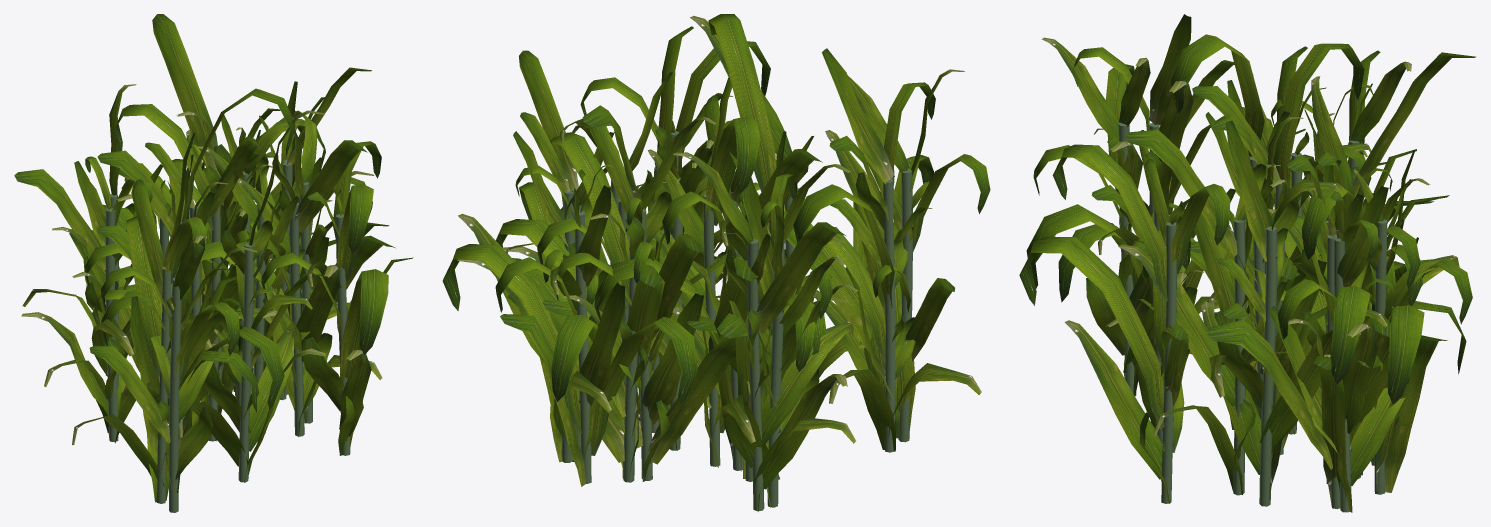
The model's file is milharal4x4_denso.fbx.
3 renders of one model, left to right at view 1: azimuth 30°, elevation 25°; view 2: azimuth 150°, elevation 25°; view 3: azimuth 270°, elevation 25°, orthographic. The views are drawn at different scales.
Visible parts, largest first — view 1: Plantacao1; view 2: Plantacao1; view 3: Plantacao1.
Boxes of the visible parts, x1,y1,x2,y2 form: Plantacao1: (14,14,413,512); Plantacao1: (442,14,990,511); Plantacao1: (1019,14,1476,512).
Size of the model in its own units: 672 by 619 by 601.
